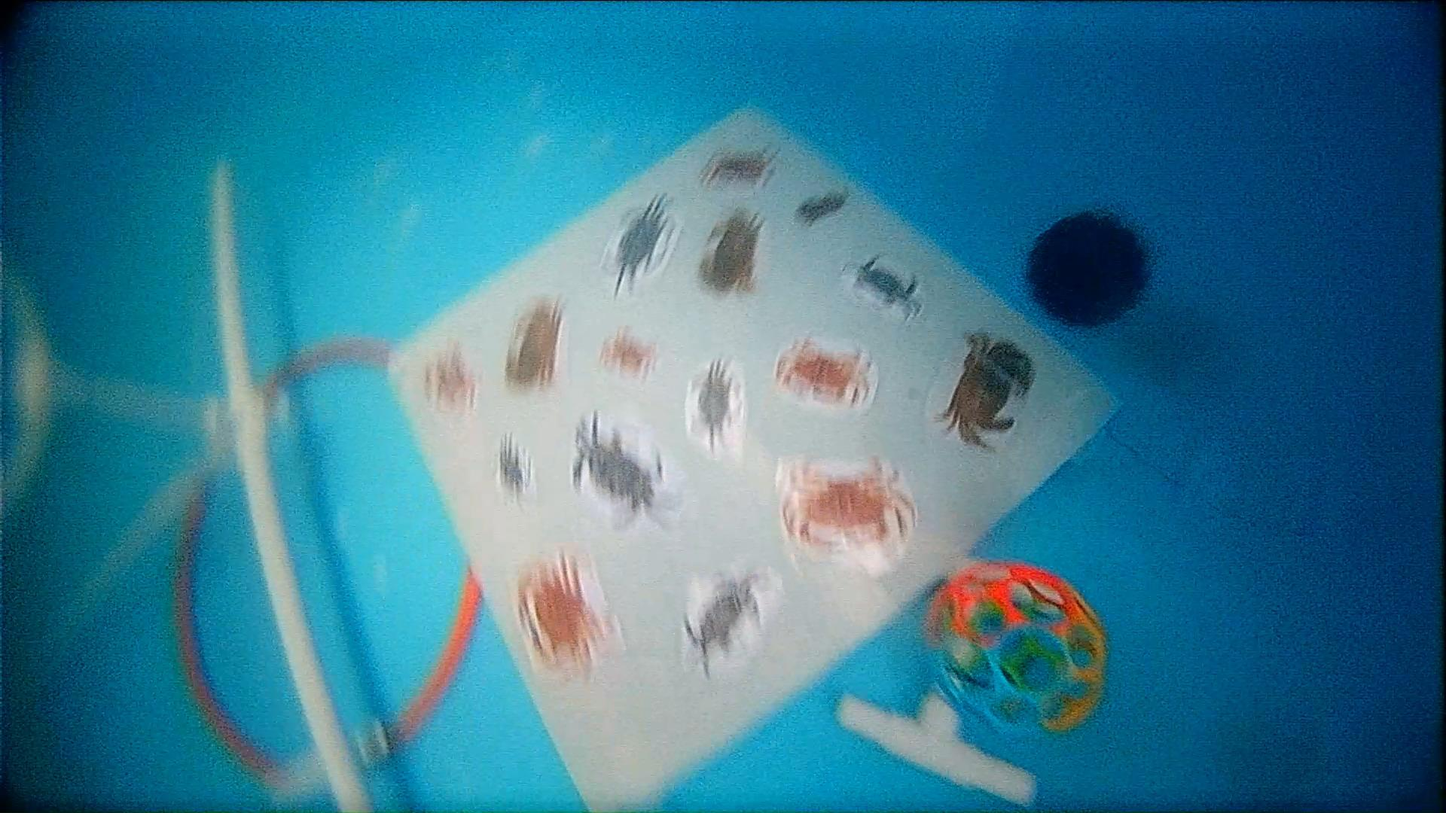GreenCrab: (574, 413, 661, 520), (856, 257, 918, 317)
